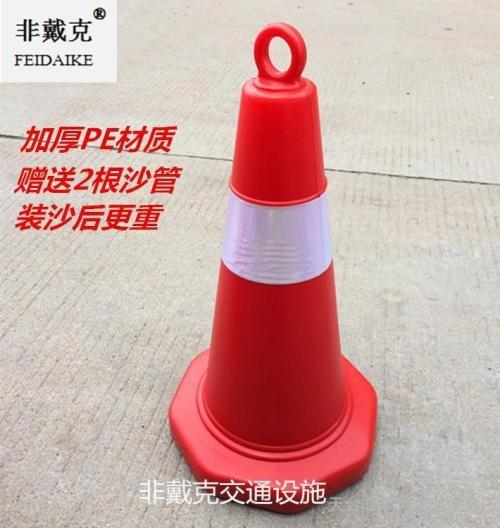cone_barrel: (177, 18, 364, 475)
